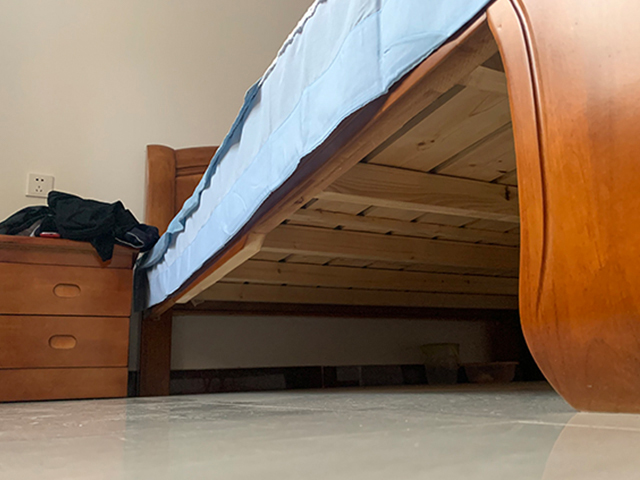bed: (136, 1, 640, 418)
cabinet: (1, 235, 136, 403)
